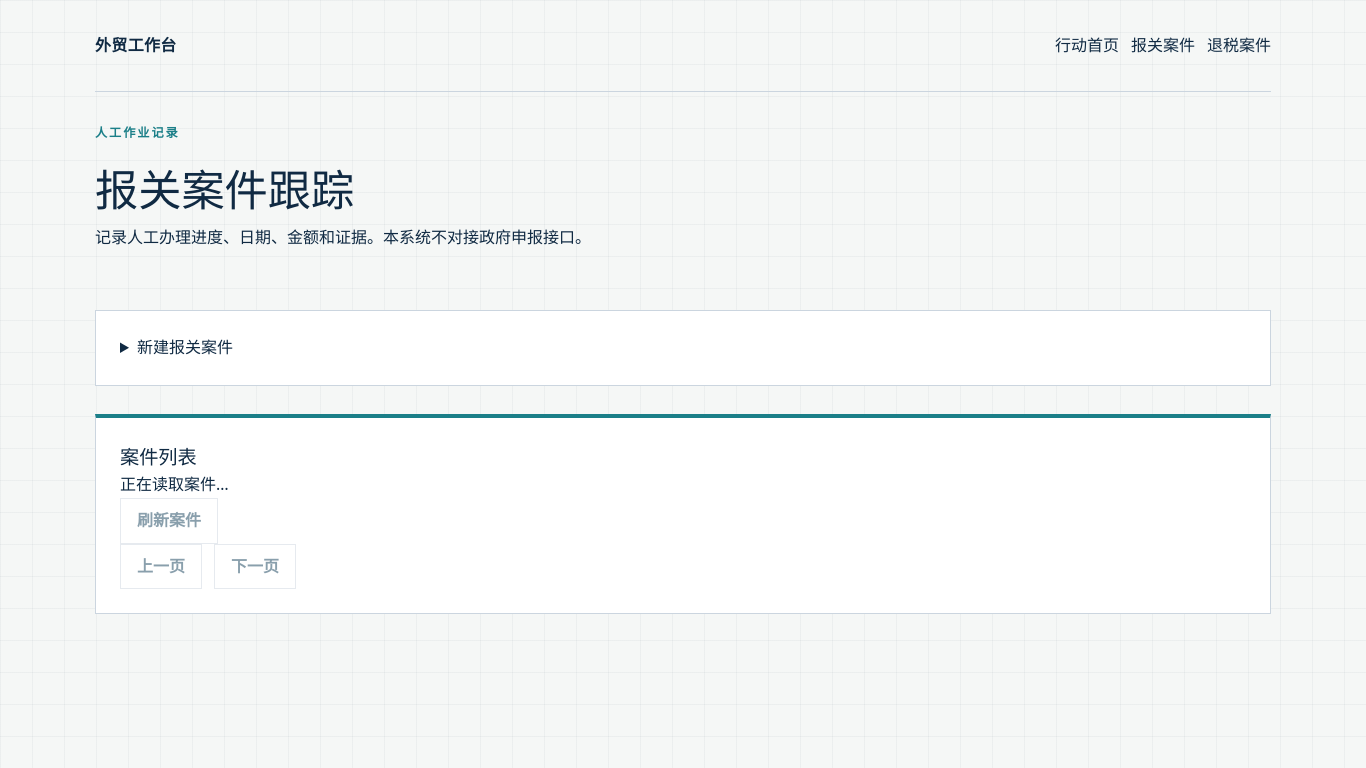
Test: rejects an invalid creation amount without posting
Click the heading "新建报关案件": (185, 347) [137, 336, 233, 358]
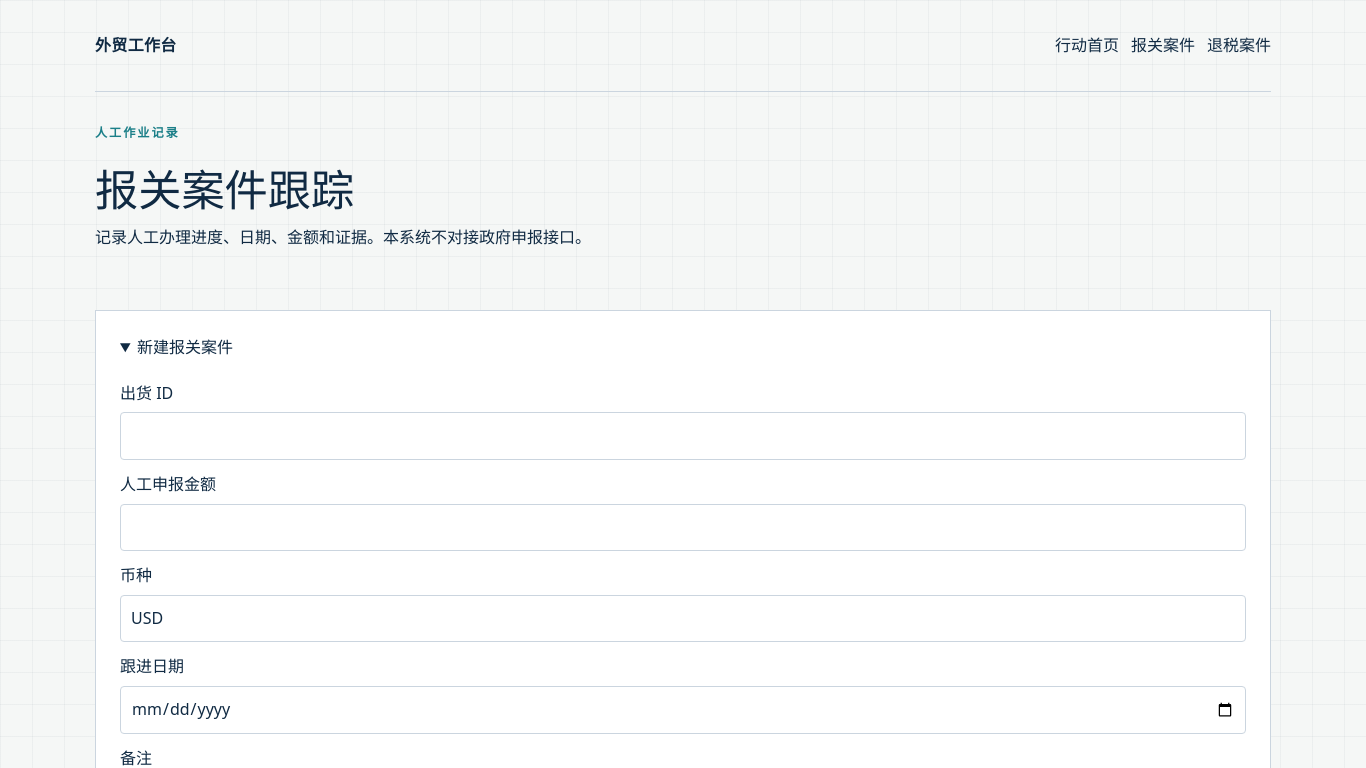
In the field labelled "出货 ID": (683, 436) [120, 412, 1246, 460], type "00000000-0000-4000-8000-000000000009"
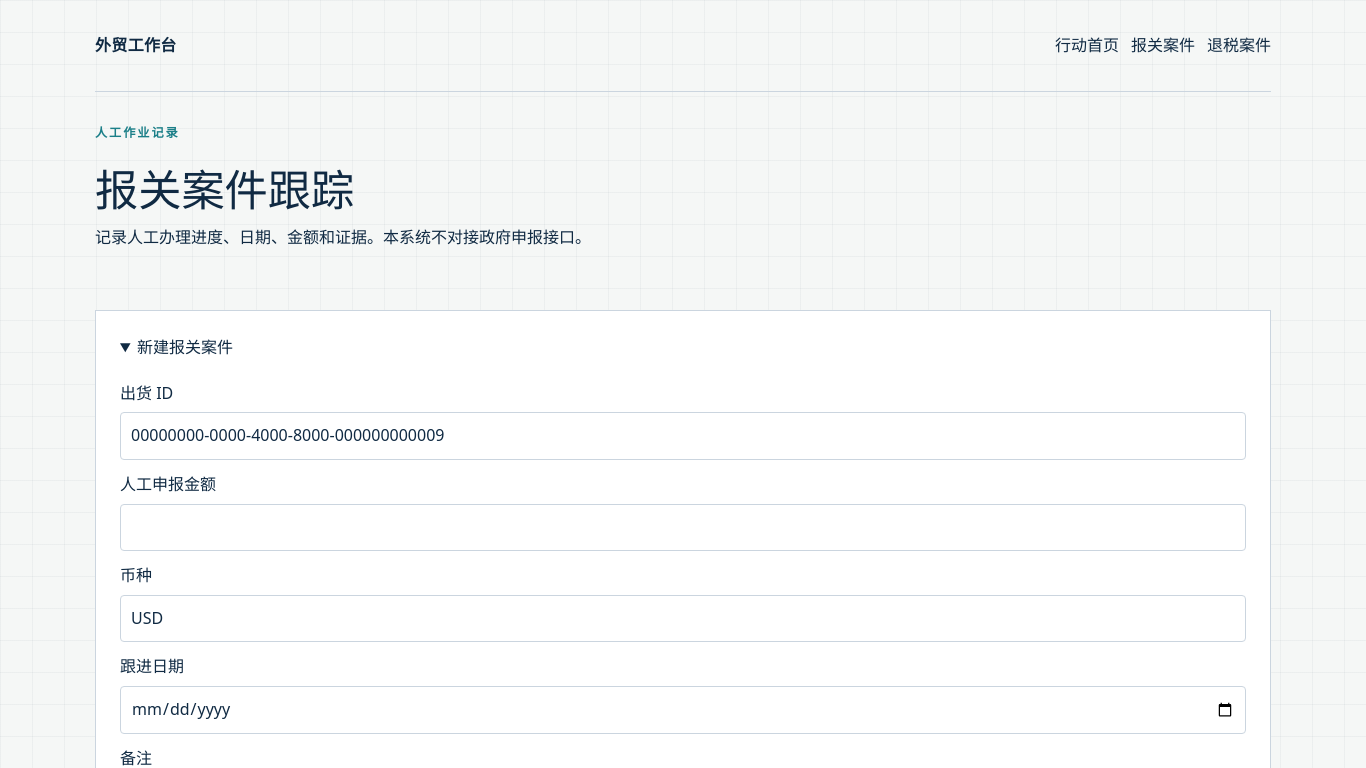
In the field labelled "人工申报金额": (683, 527) [120, 504, 1246, 551], type "0.0000"
(page scrolled)
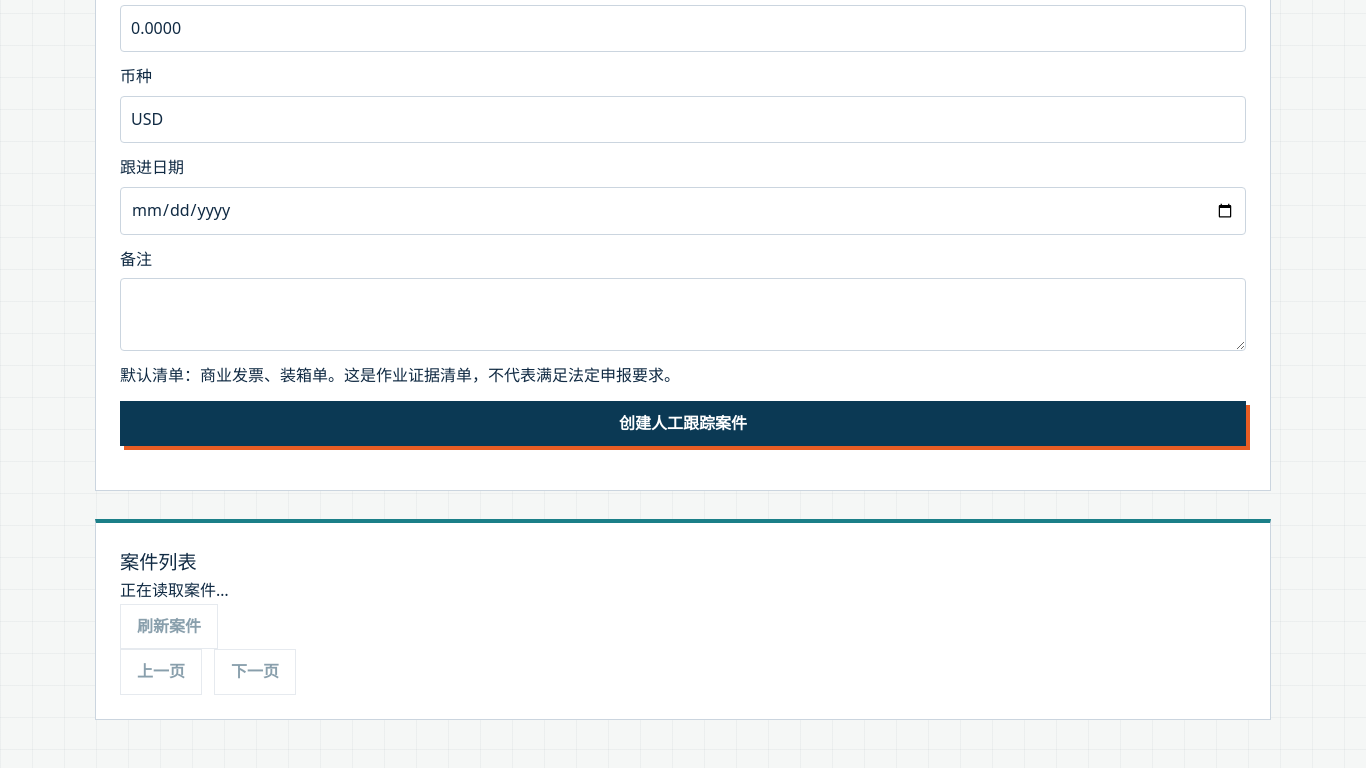
Click the button "创建人工跟踪案件": (683, 424) [120, 401, 1246, 446]
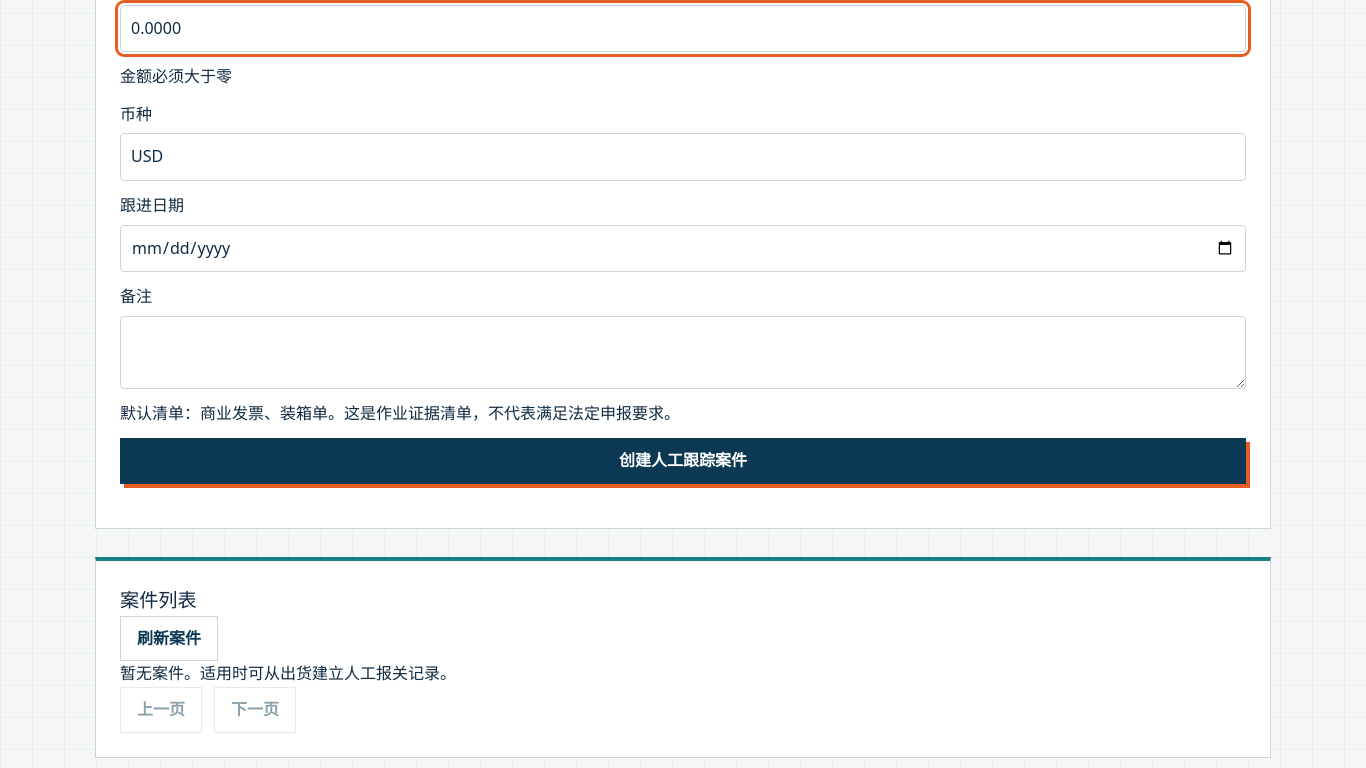
expect the text "金额必须大于零" is shown: met, box [120, 65, 232, 87]
